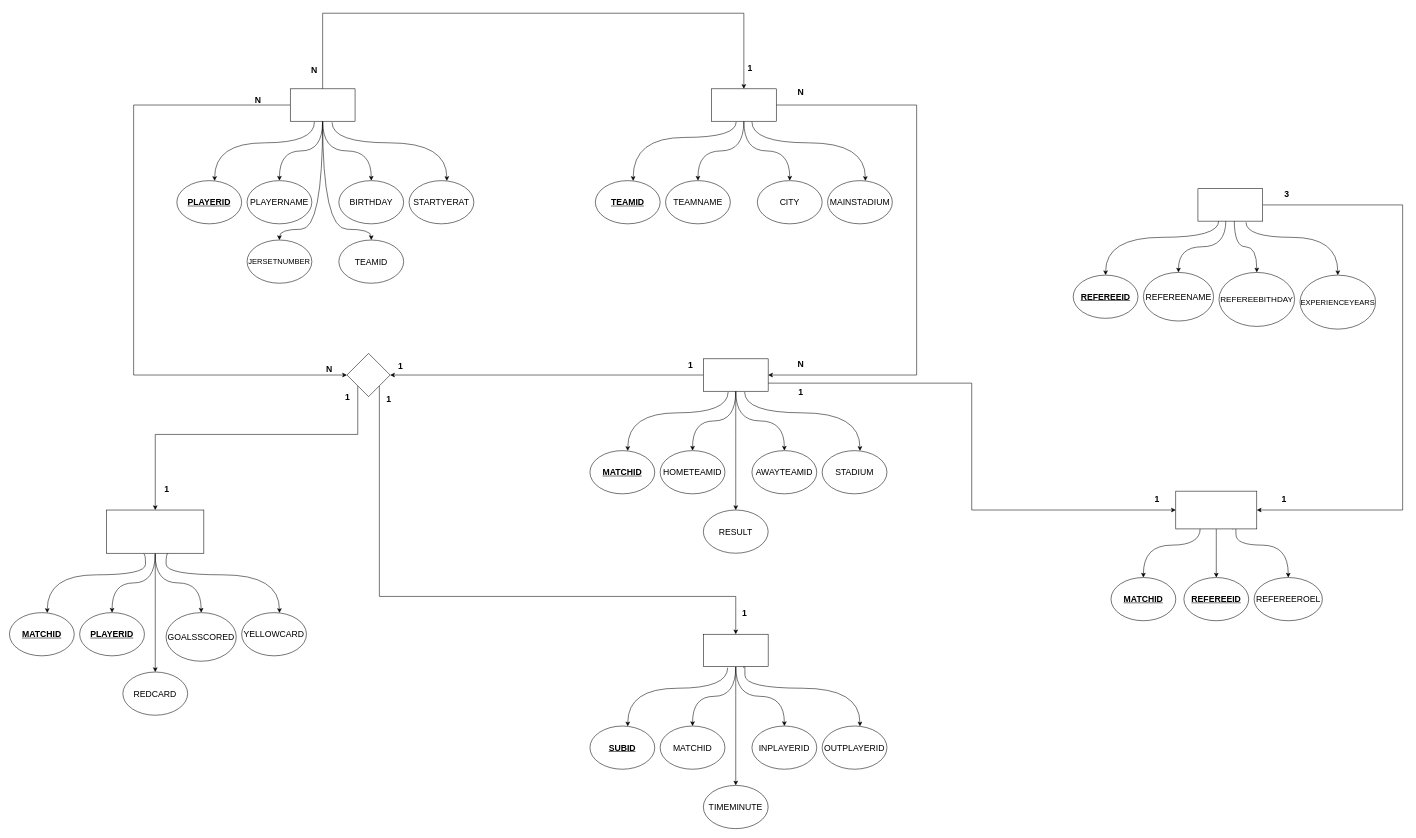
This 1416x838 diagram has some shape labels left out. The shapes that lost their labels are listed below. From the top down, each one's box as (x1, y1, x2, y2) in pixels, then its label:
(290, 88, 355, 121): PLAYER
(711, 88, 776, 121): TEAM
(1197, 188, 1263, 221): REFEREE
(346, 353, 390, 397): ONE MACH
(703, 358, 768, 391): MATCH
(1175, 491, 1257, 529): MATCHREFEREE
(106, 509, 204, 553): PLAYERPARTICIPTION
(703, 634, 768, 667): SUBSTITUTION
